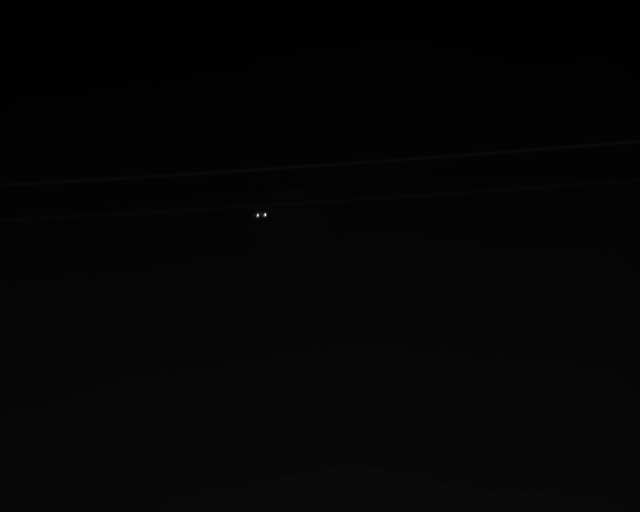Target: (257, 213, 268, 219)
